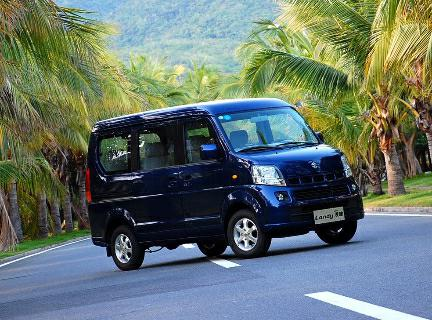铃木-浪迪: (82, 95, 369, 271)
